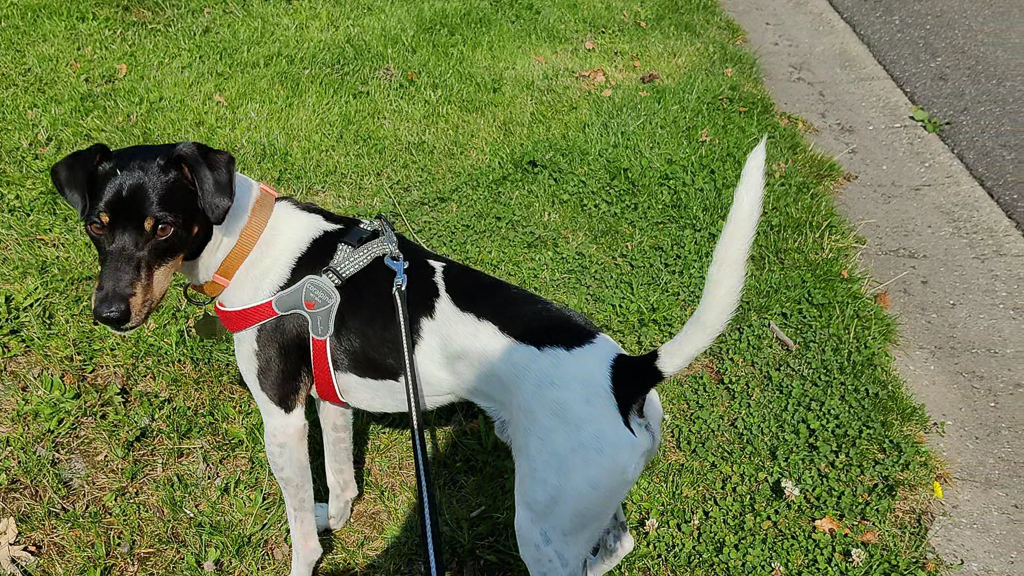Dog: (34, 95, 794, 576)
